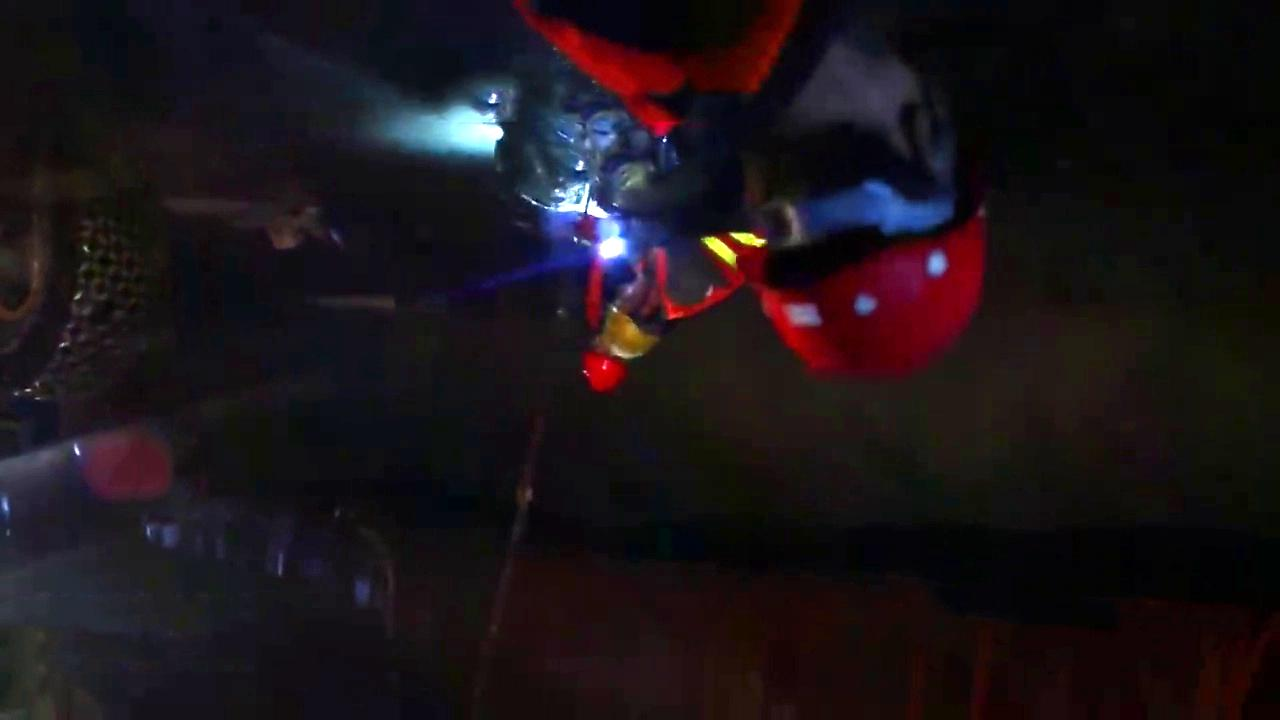helmet: (744, 61, 989, 381), (601, 277, 665, 360), (581, 335, 629, 393)
